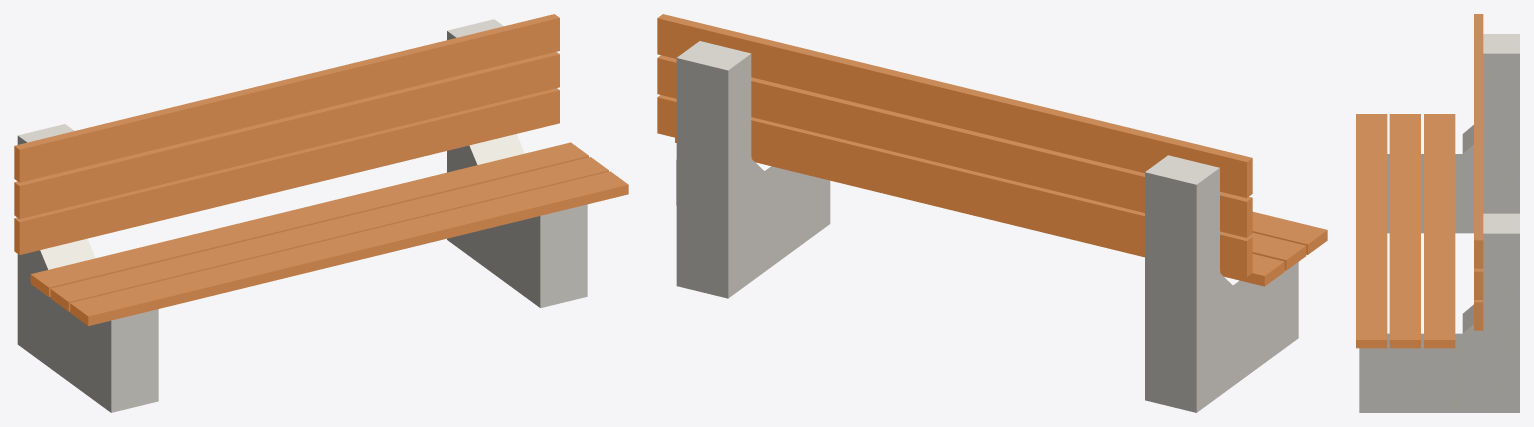
File: bench_custom.gltf
The picture shows the model from 3 angles, left to right: view 1: azimuth 30°, elevation 25°; view 2: azimuth 150°, elevation 25°; view 3: azimuth 270°, elevation 25°; orthographic projection. The views are drawn at different scales.
Visible parts, largest first — view 1: Bench2 0.037, Bench2 0.038; view 2: Bench2 0.037, Bench2 0.038; view 3: Bench2 0.037, Bench2 0.038.
Boxes of the visible parts, x1,y1,x2,y2 form: Bench2 0.037: [14, 14, 628, 325]; Bench2 0.038: [17, 19, 587, 412]; Bench2 0.037: [657, 14, 1327, 286]; Bench2 0.038: [676, 41, 1298, 412]; Bench2 0.037: [1356, 14, 1483, 348]; Bench2 0.038: [1359, 34, 1519, 412].
Size of the model in its own units: 1.91 by 0.7436 by 0.5843.
